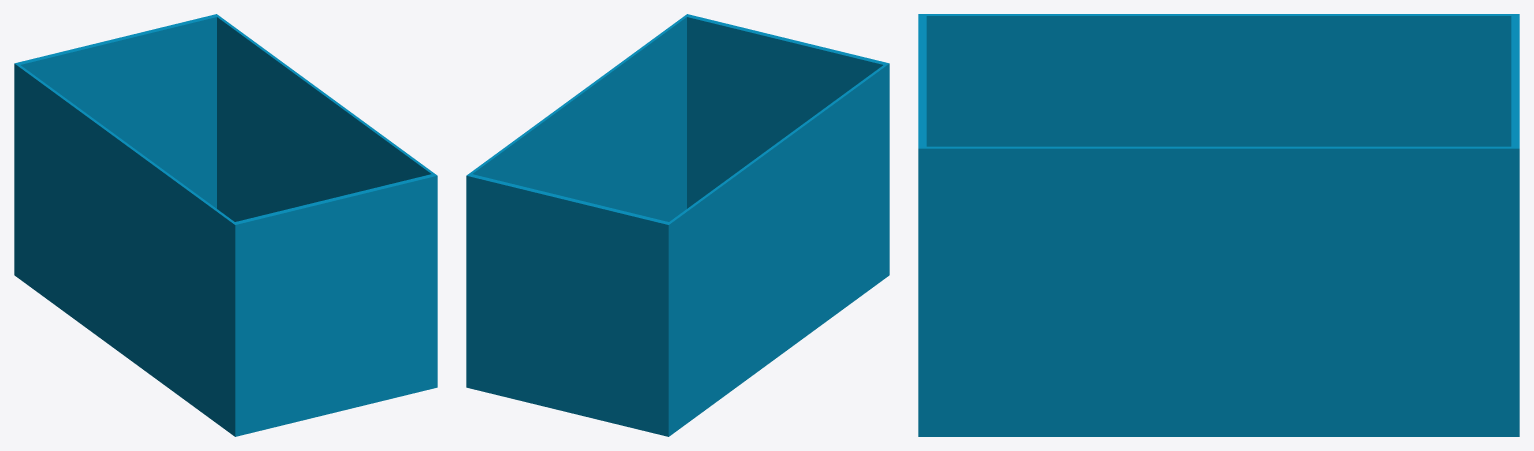
The model's file is tank1.obj.
3 views of the same model, side by side, from view 1: azimuth 30°, elevation 25°; view 2: azimuth 150°, elevation 25°; view 3: azimuth 270°, elevation 25° (orthographic). The views are drawn at different scales.
Parts seen in each view (by area): view 1: tank; view 2: tank; view 3: tank.
Boxes of the visible parts, box(x1,y1,x2,y2) form: tank: box(14, 14, 437, 436); tank: box(466, 14, 889, 436); tank: box(918, 14, 1519, 436).
Size of the model in its own units: 2.62 by 2.62 by 4.95.
